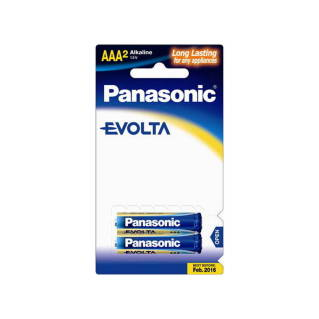Battery: (114, 211, 203, 233), (115, 233, 204, 255)
